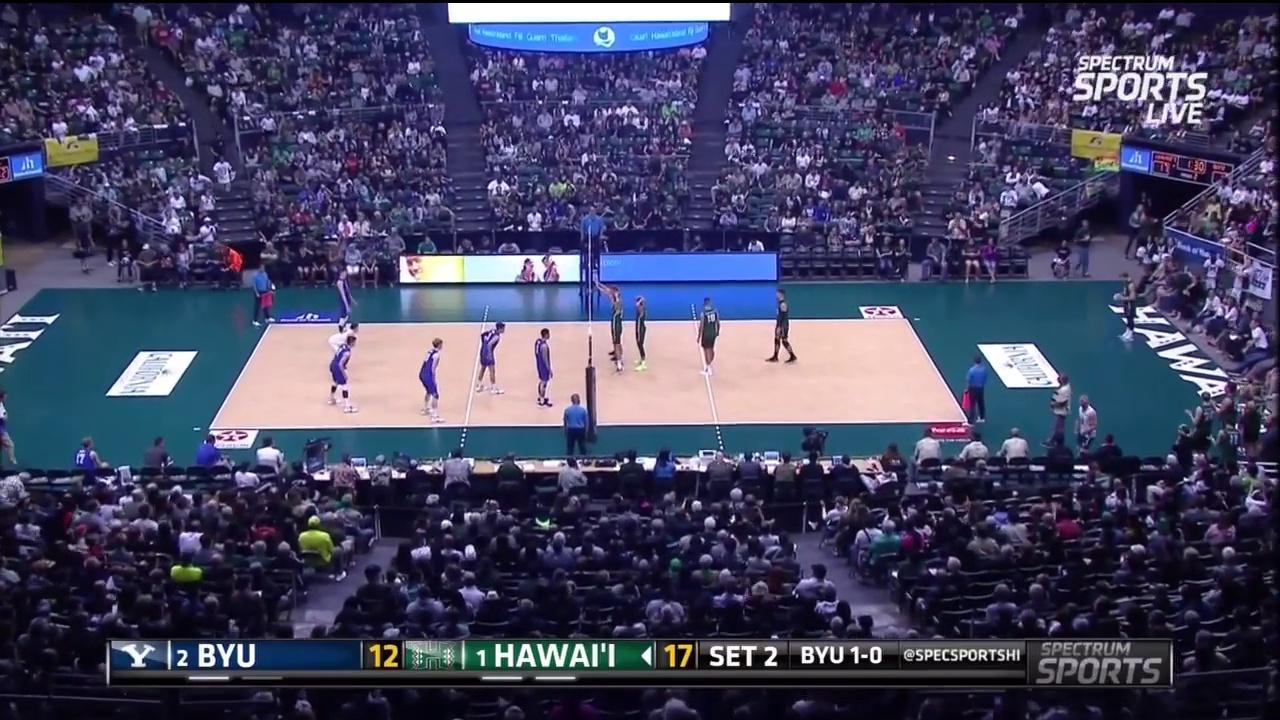player: (329, 334, 359, 415), (1111, 268, 1140, 346), (329, 266, 361, 331), (475, 320, 502, 394), (695, 296, 721, 372), (772, 288, 798, 363), (421, 338, 446, 415), (327, 318, 359, 374), (626, 291, 648, 370), (601, 281, 622, 361), (535, 328, 556, 405), (609, 299, 628, 381)
refree: (961, 353, 994, 427), (560, 392, 591, 457), (579, 204, 605, 273), (251, 259, 276, 324)
